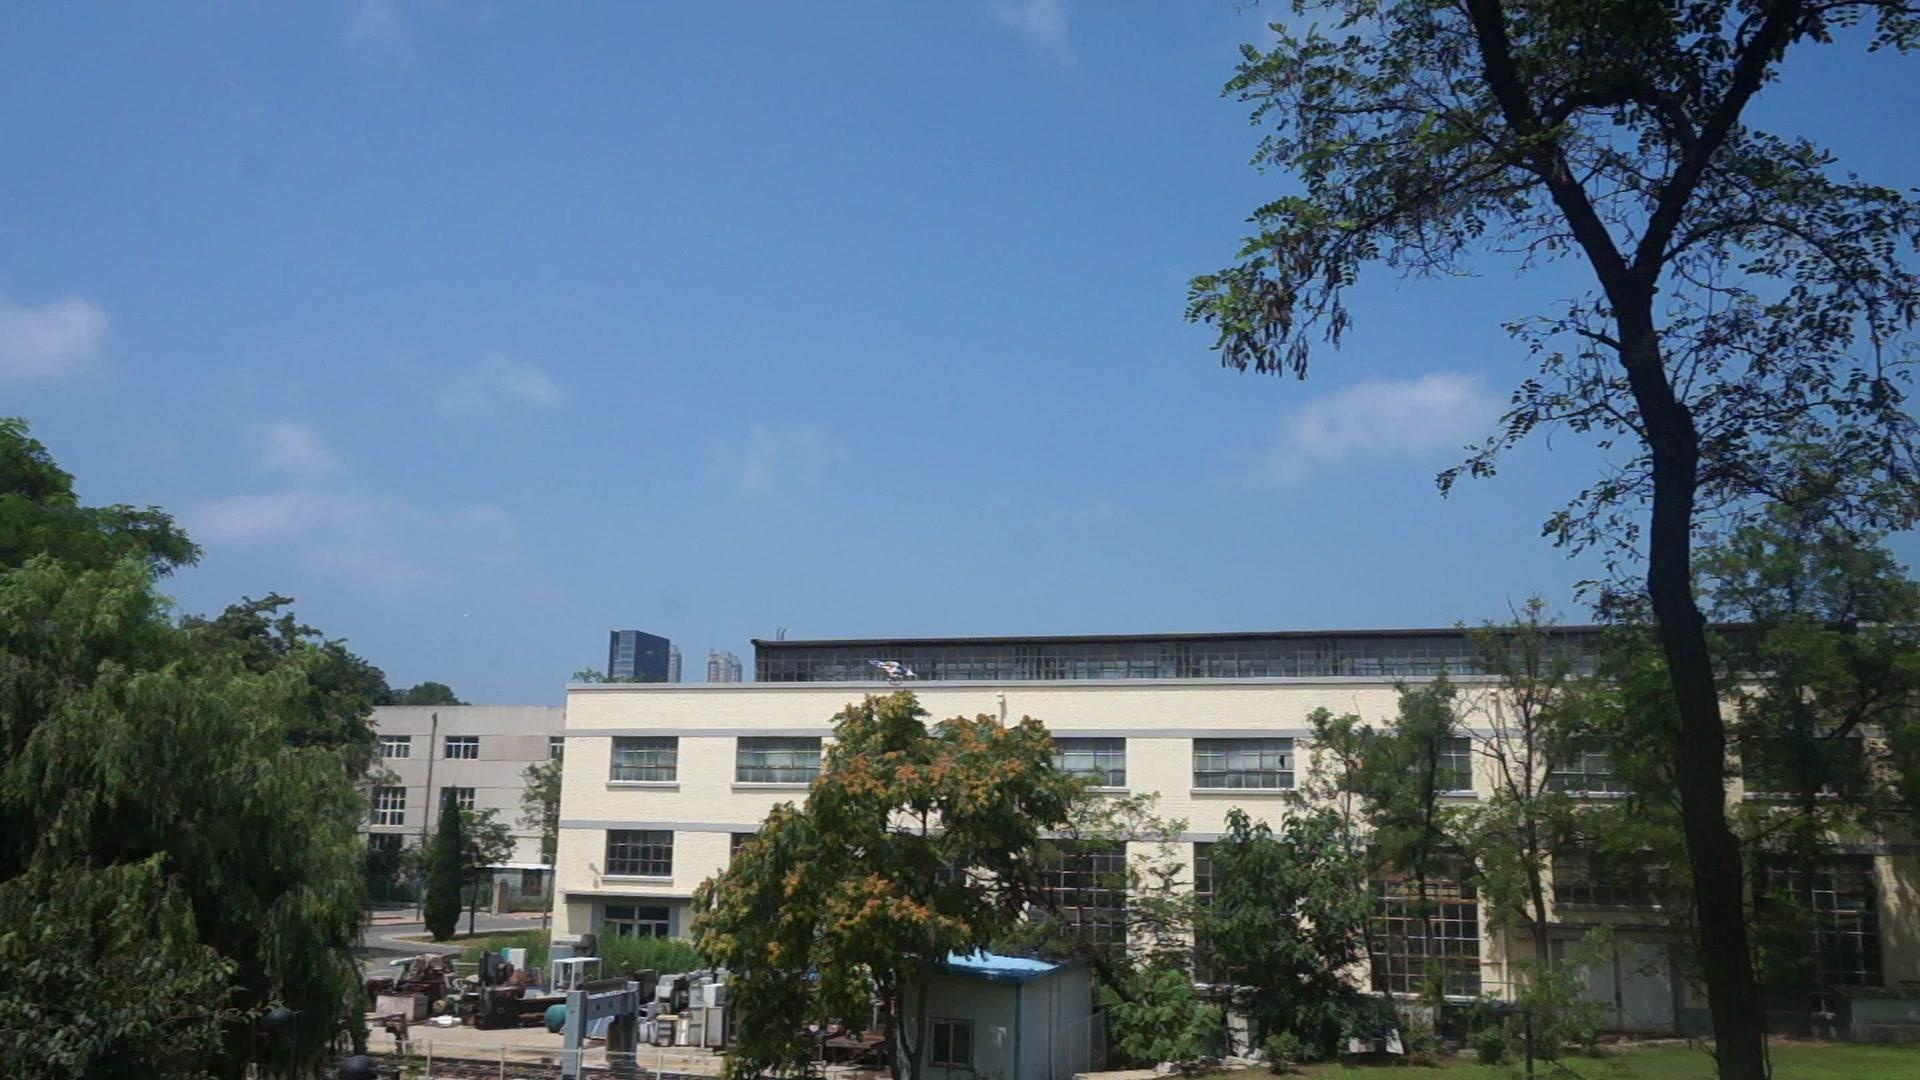UAV: (870, 659, 918, 686)
